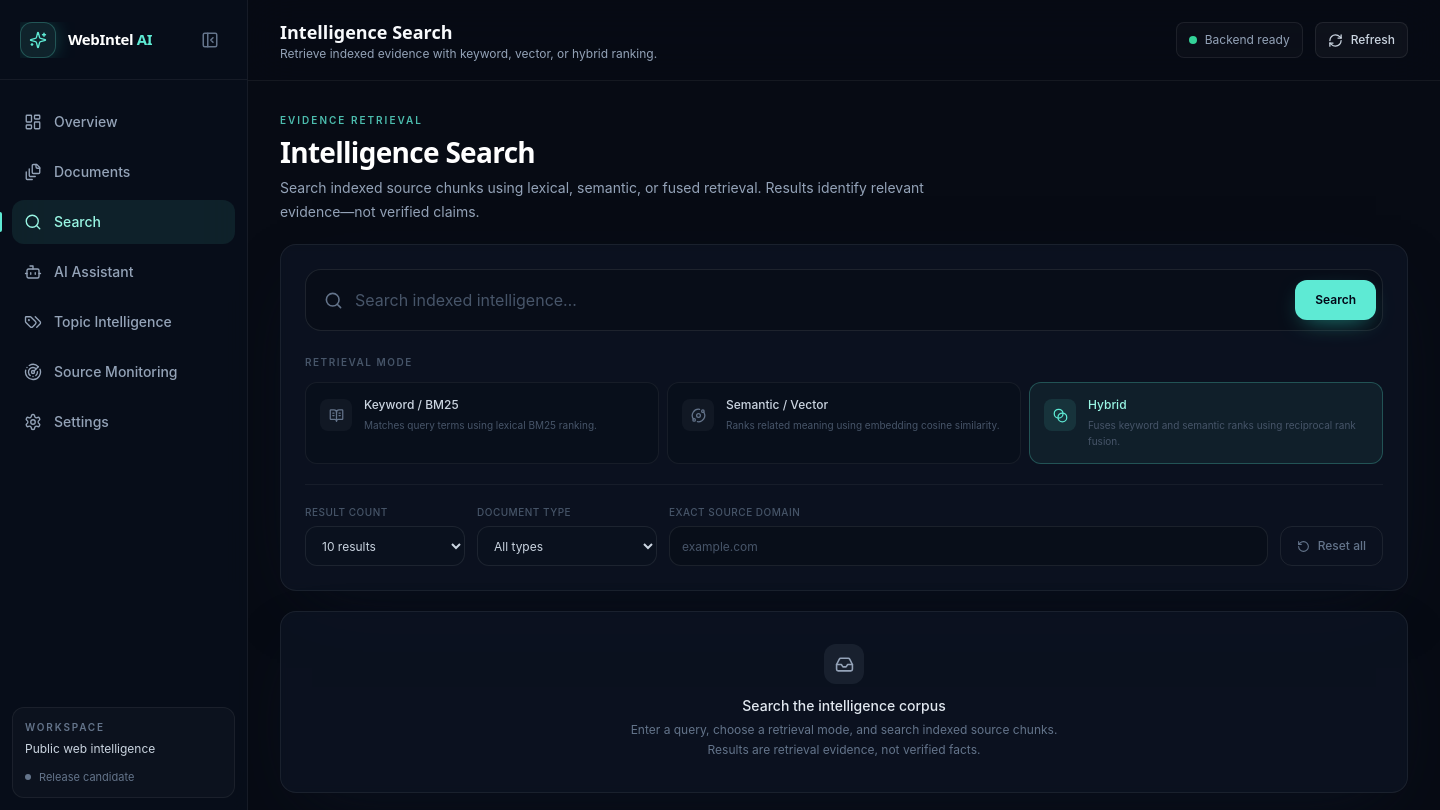
Test case: SearchPage › submits a POST request from the keyboard and renders result navigation
This screenshot has width=1440, height=810.
Type "intelligence pipelines" into the search field with placeholder "Search indexed intelligence…" at [819, 300], box [343,276,1295,324]
Then press Enter
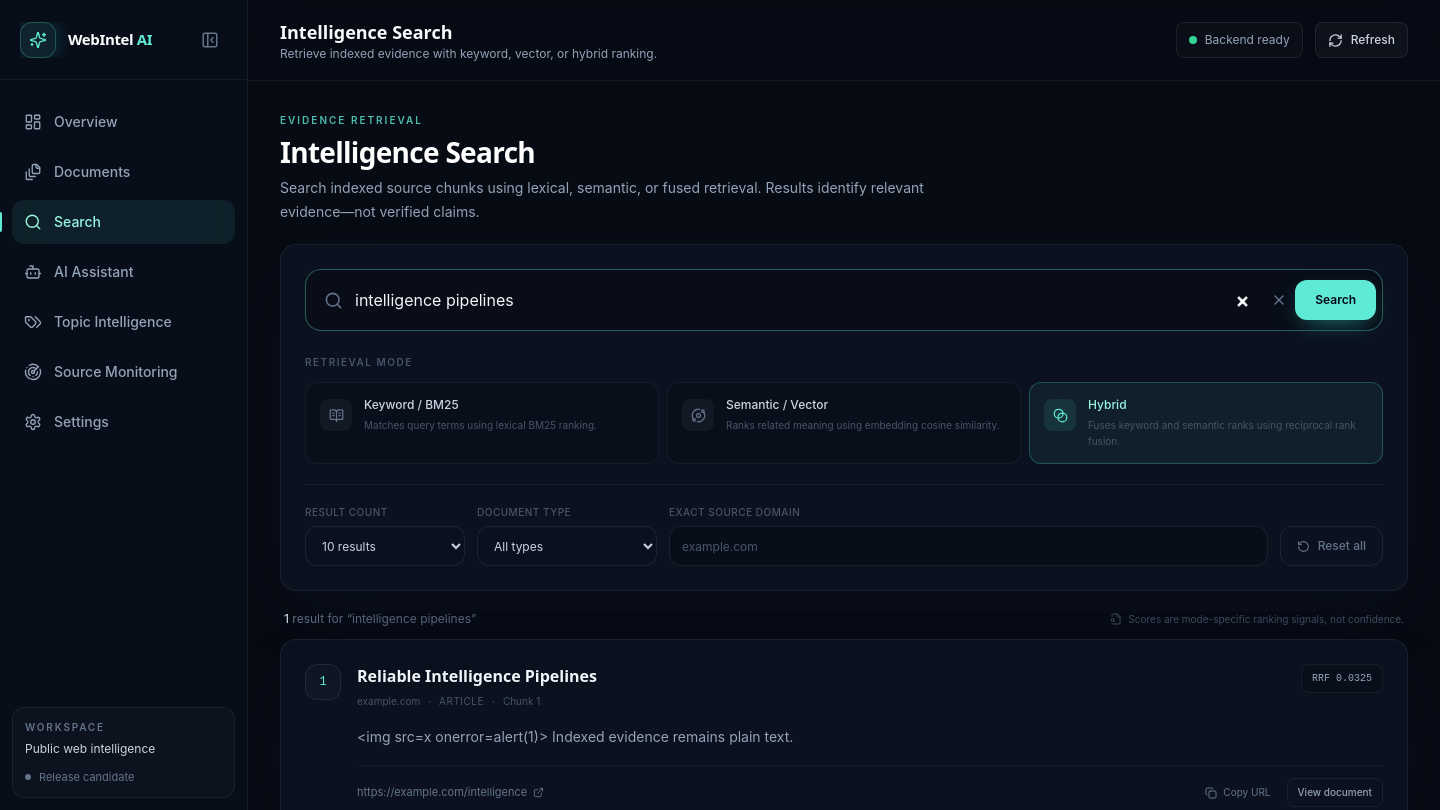
expect the link "Reliable Intelligence Pipelines" is shown: met, box [357,664,597,688]
